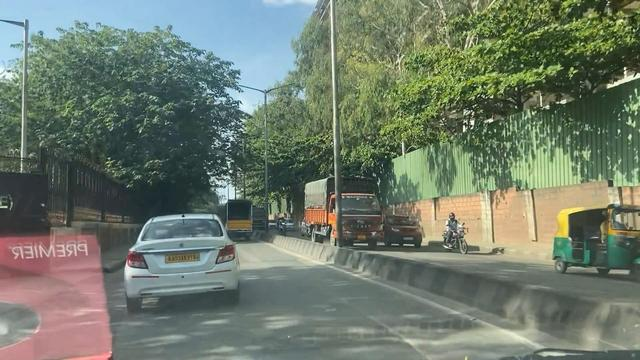HMV: (297, 169, 384, 249)
